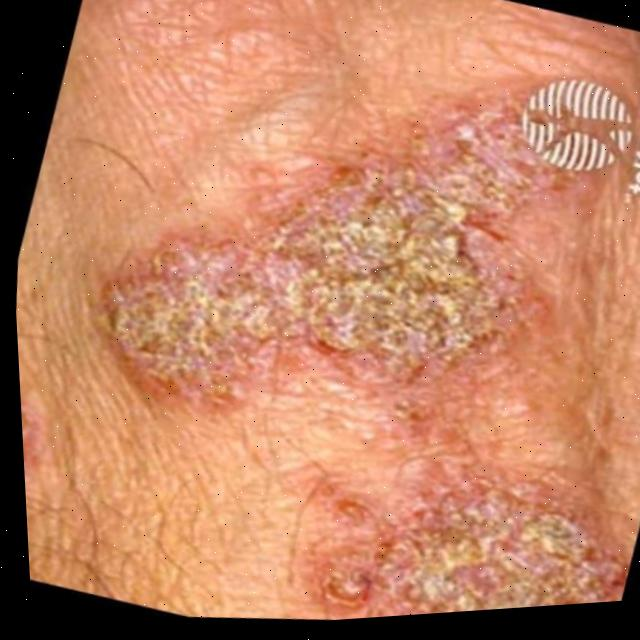Eczema: (90, 82, 504, 442), (348, 507, 587, 619)
